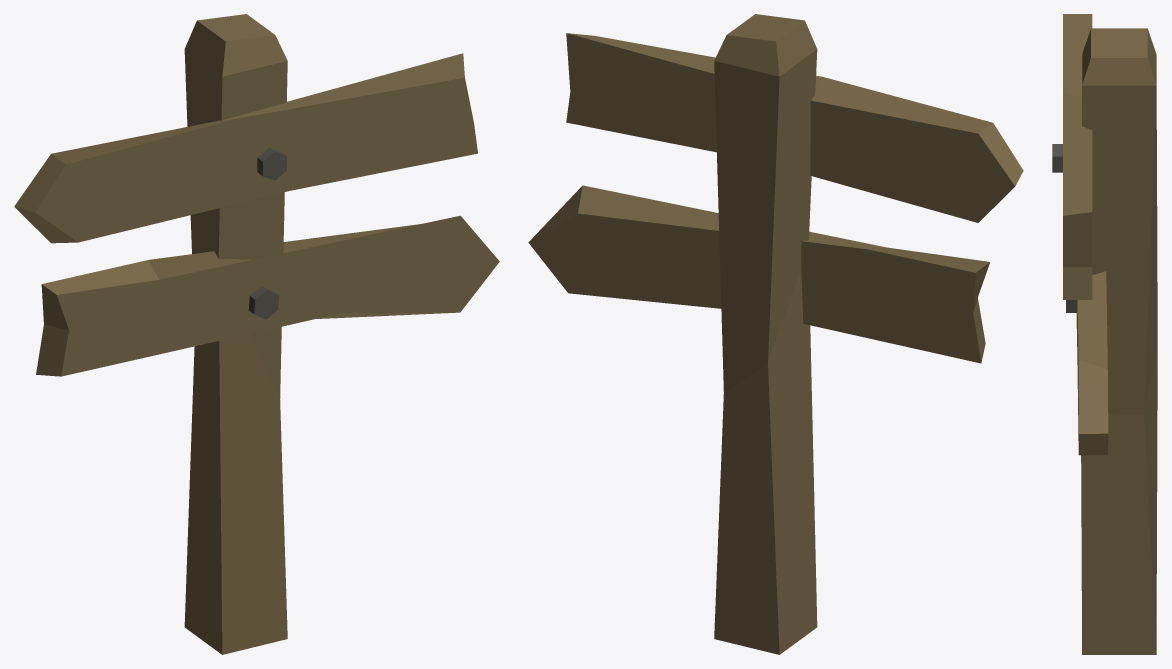
The model's file is Signboard_3.fbx.
3 renders of one model, left to right at view 1: azimuth 30°, elevation 25°; view 2: azimuth 150°, elevation 25°; view 3: azimuth 270°, elevation 25°, orthographic.
Parts seen in each view (by area): view 1: Signboard_3; view 2: Signboard_3; view 3: Signboard_3.
Part boxes in pixels (x1,y1,x2,y2): Signboard_3: (14,14,499,654); Signboard_3: (528,14,1023,654); Signboard_3: (1052,14,1157,654).
Bounding box in the file's own units: 69.89 × 84.8 × 13.54.
